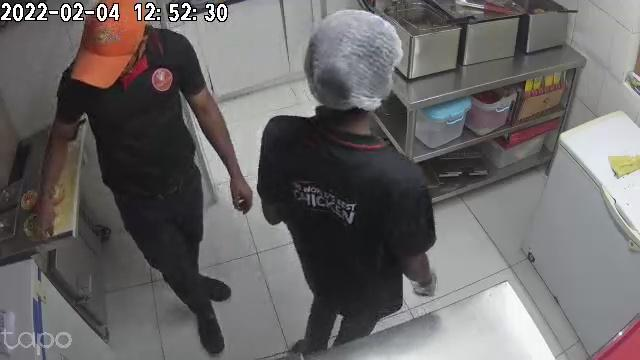no_gloves: (226, 162, 253, 214)
